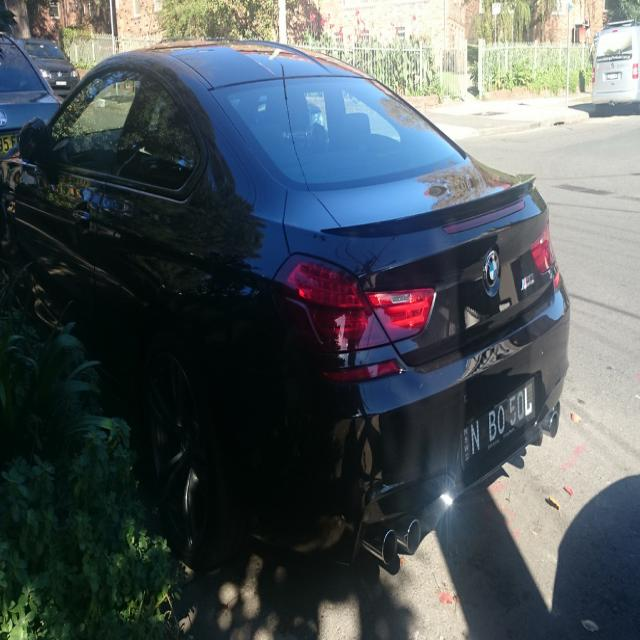car: (8, 40, 594, 595)
